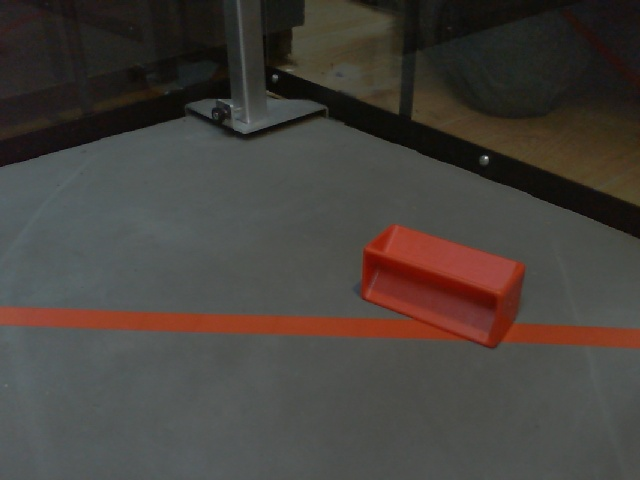RedSample: (362, 222, 526, 349)
